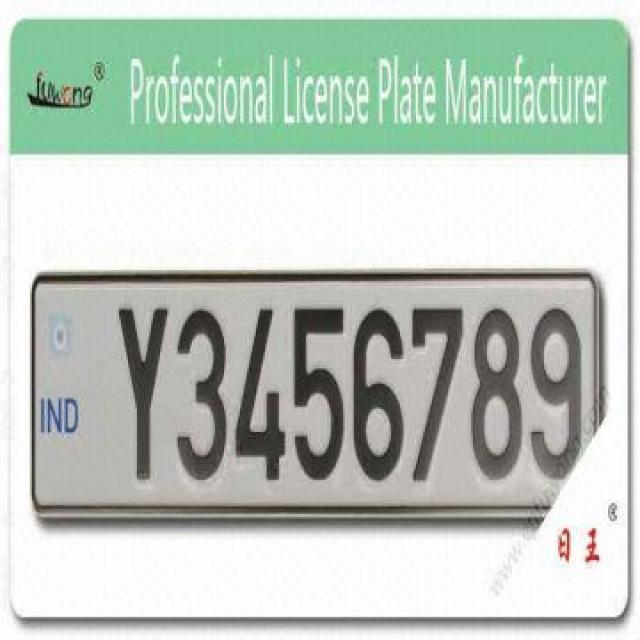License_Plate: (26, 269, 606, 520)
